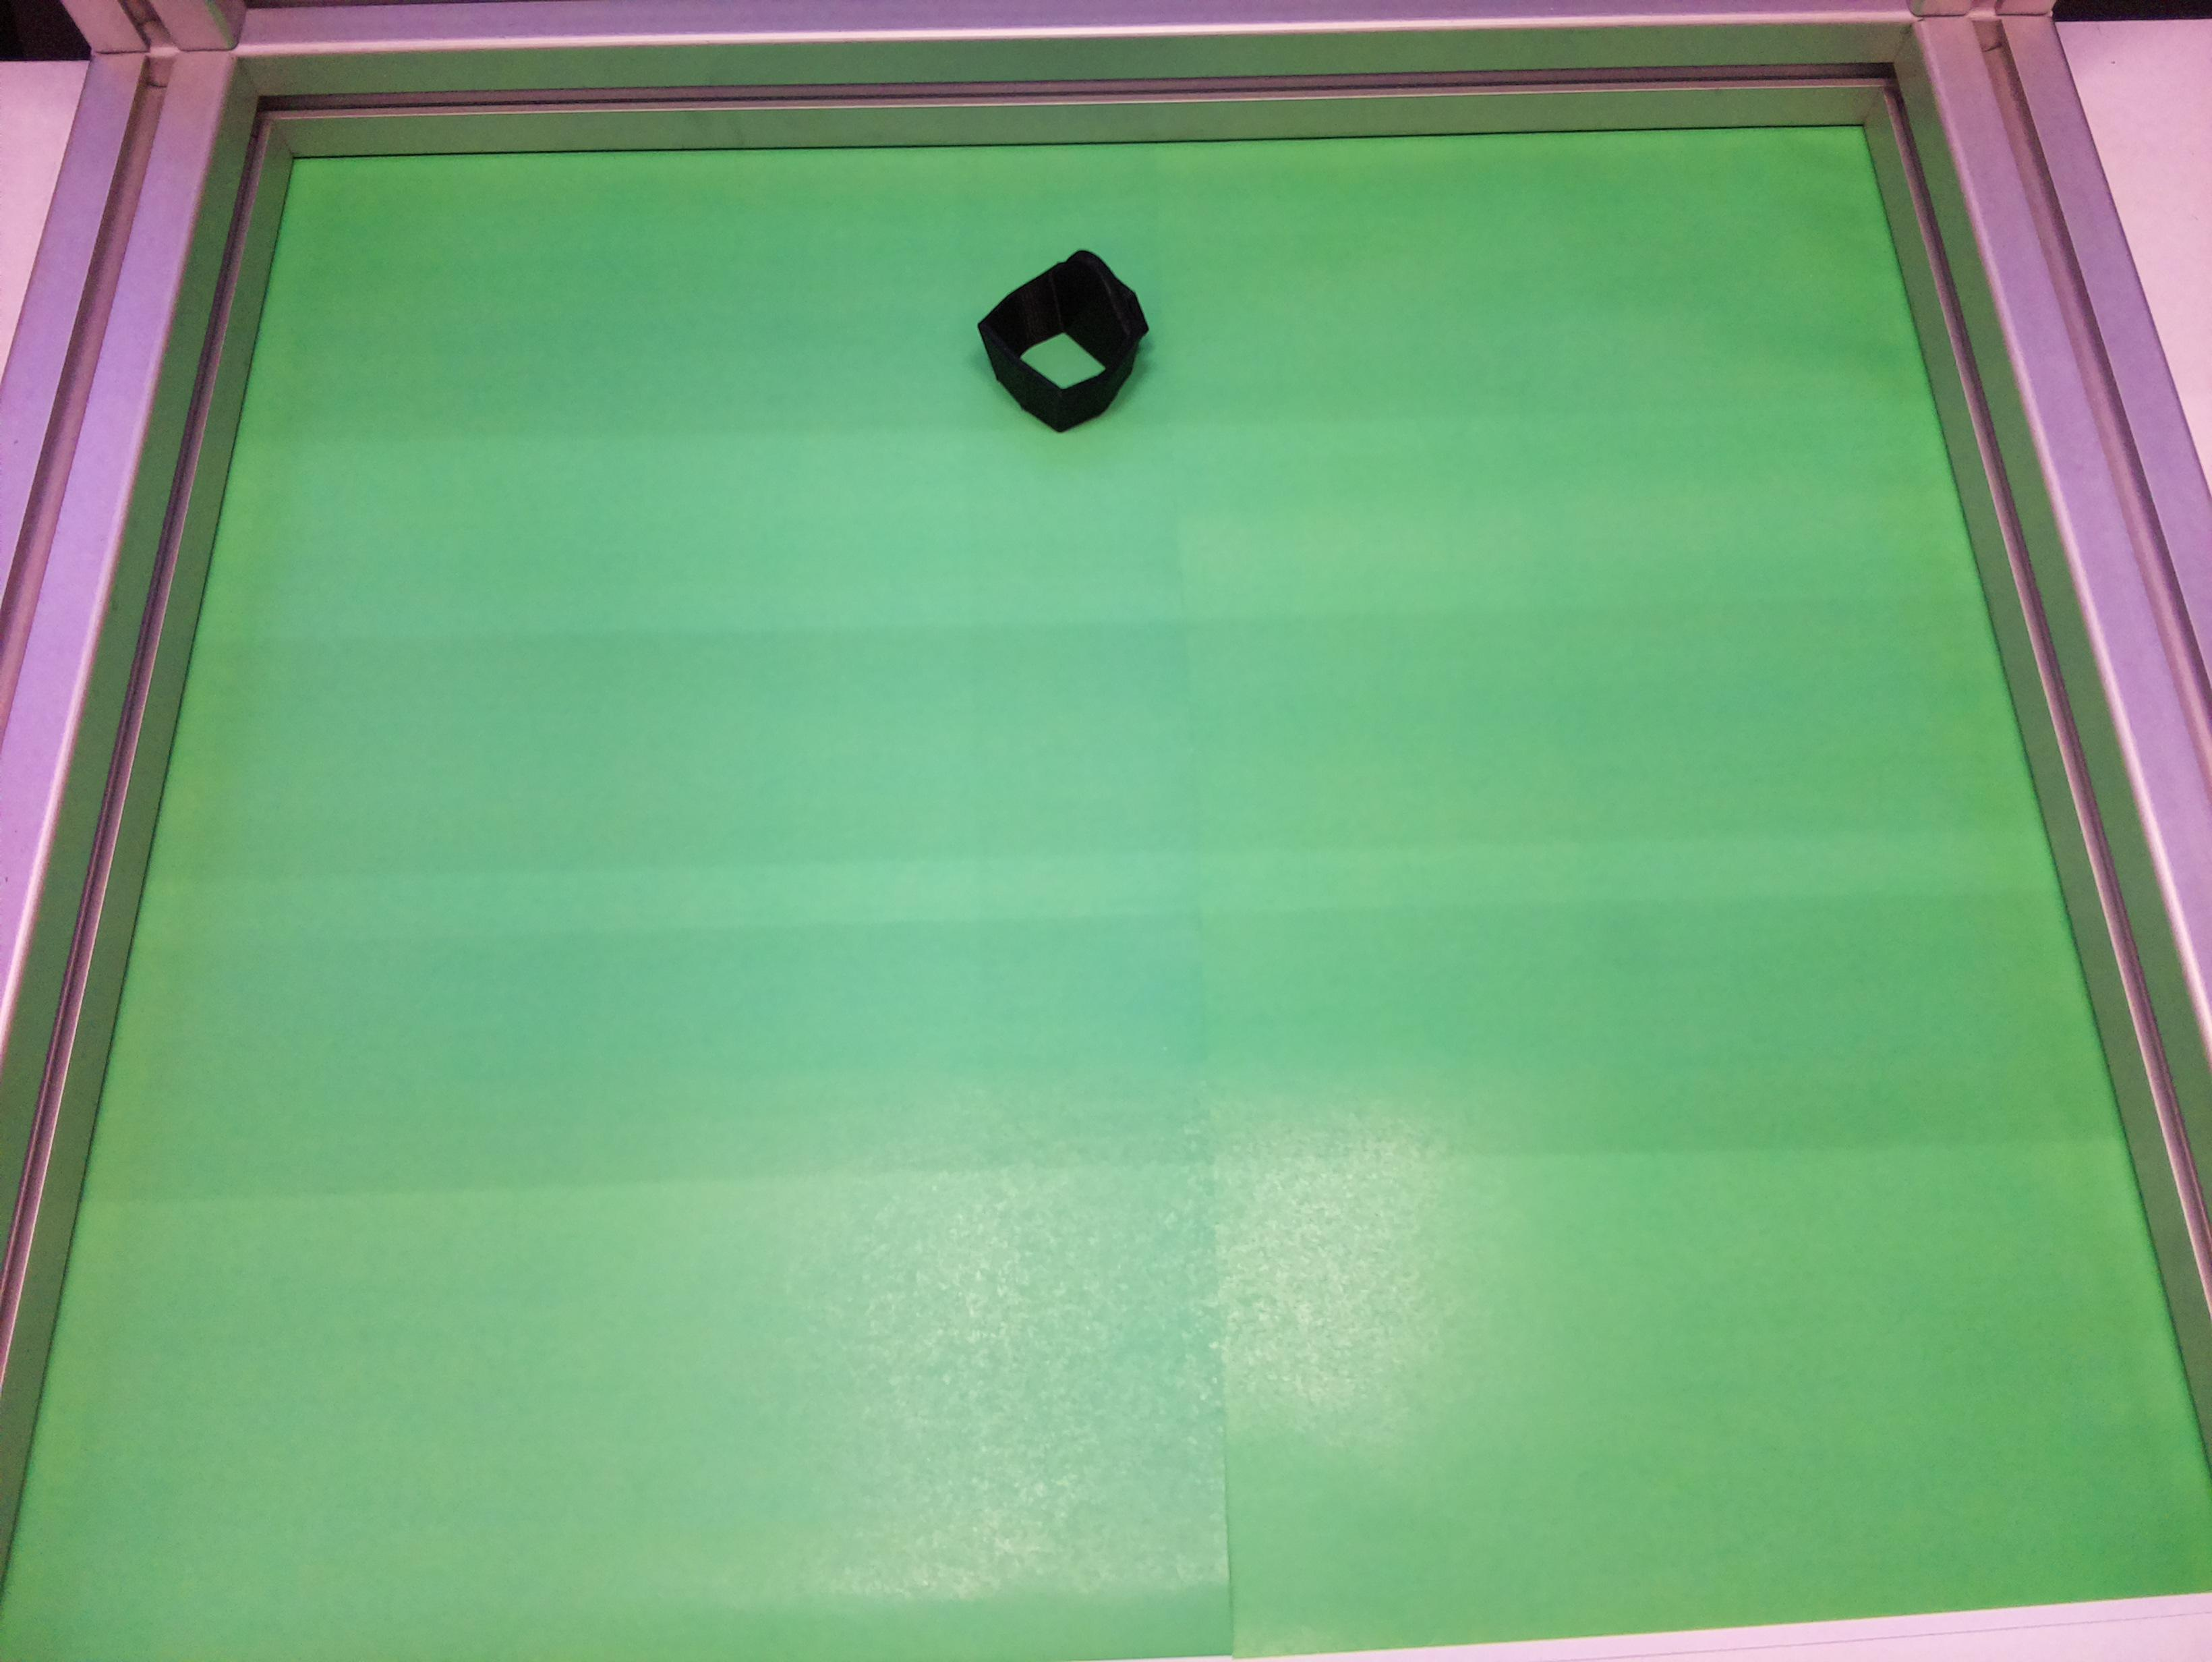scissor_holder: (958, 230, 1178, 450)
